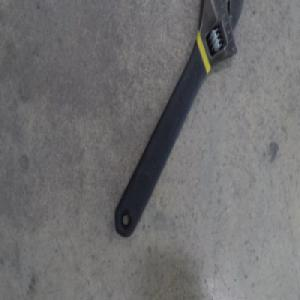AdjustableWrench: (115, 0, 244, 239)
